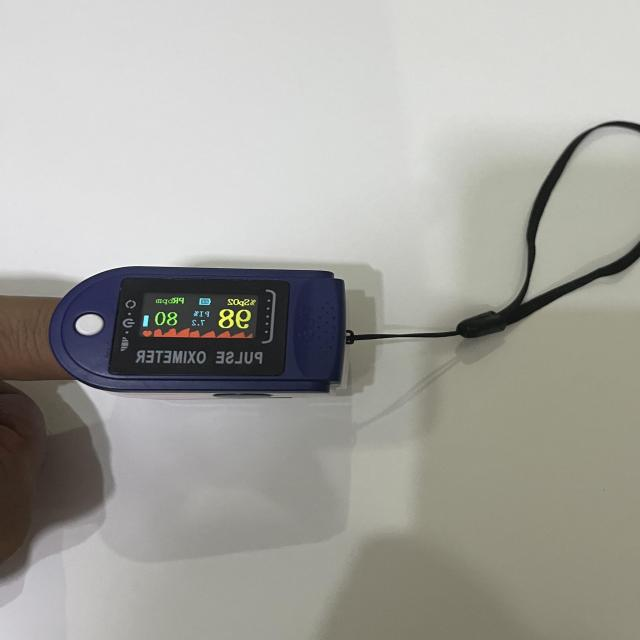spo2: (48, 267, 356, 398)
